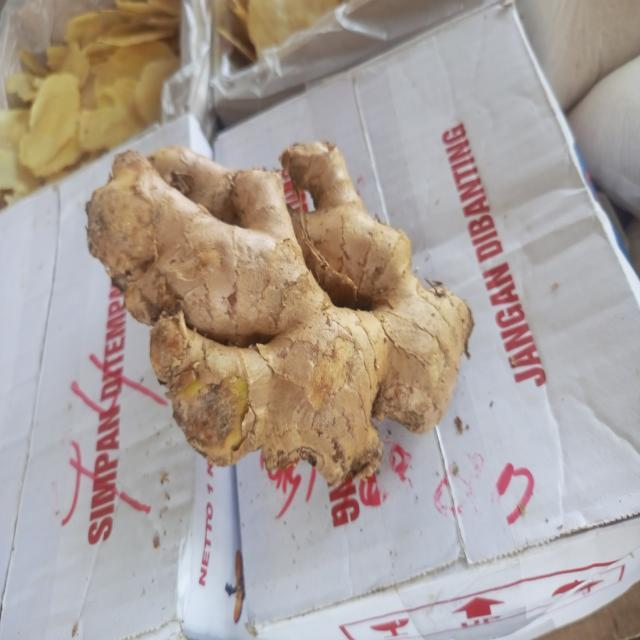ginger: (95, 136, 472, 474)
